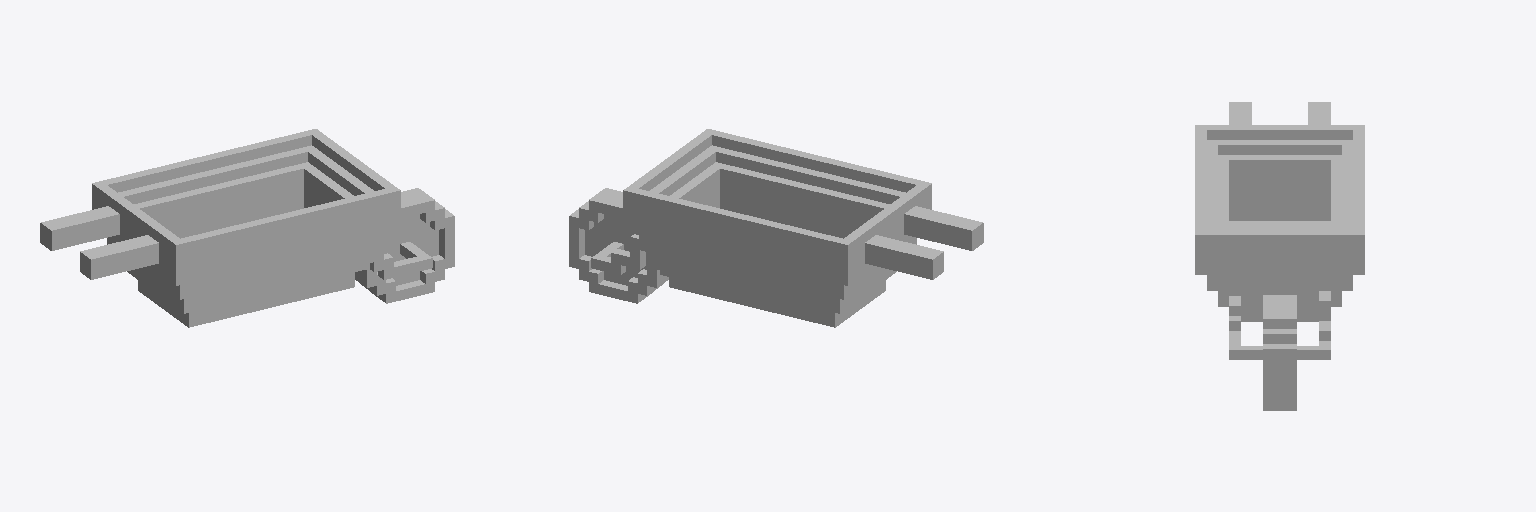
Rendered from carrinho_de_mao.obj.
3 views of the same model, side by side, from view 1: azimuth 30°, elevation 25°; view 2: azimuth 150°, elevation 25°; view 3: azimuth 270°, elevation 25° (orthographic).
Parts seen in each view (by area): view 1: carrinho_de_mao; view 2: carrinho_de_mao; view 3: carrinho_de_mao.
Part boxes in pixels (left/top/right/bottom): carrinho_de_mao: left=40, top=129, right=454, bottom=327; carrinho_de_mao: left=569, top=129, right=983, bottom=327; carrinho_de_mao: left=1195, top=102, right=1364, bottom=410.
Bounding box in the file's own units: 39 × 14 × 15.